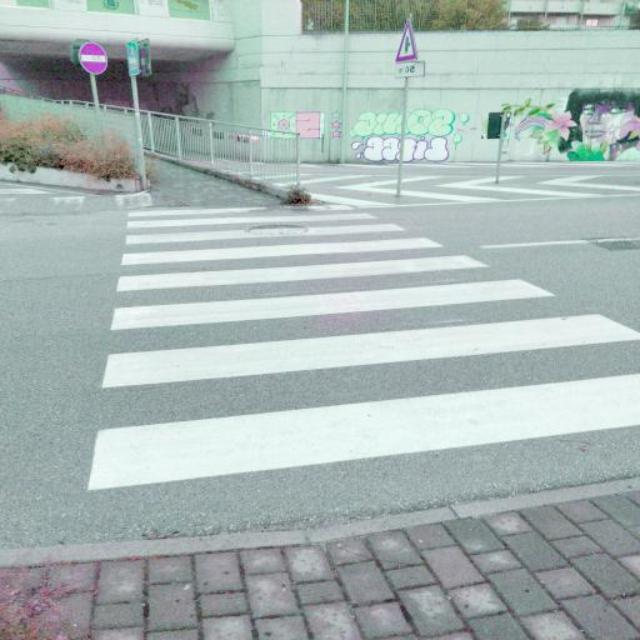sidewalk: (78, 203, 640, 547)
